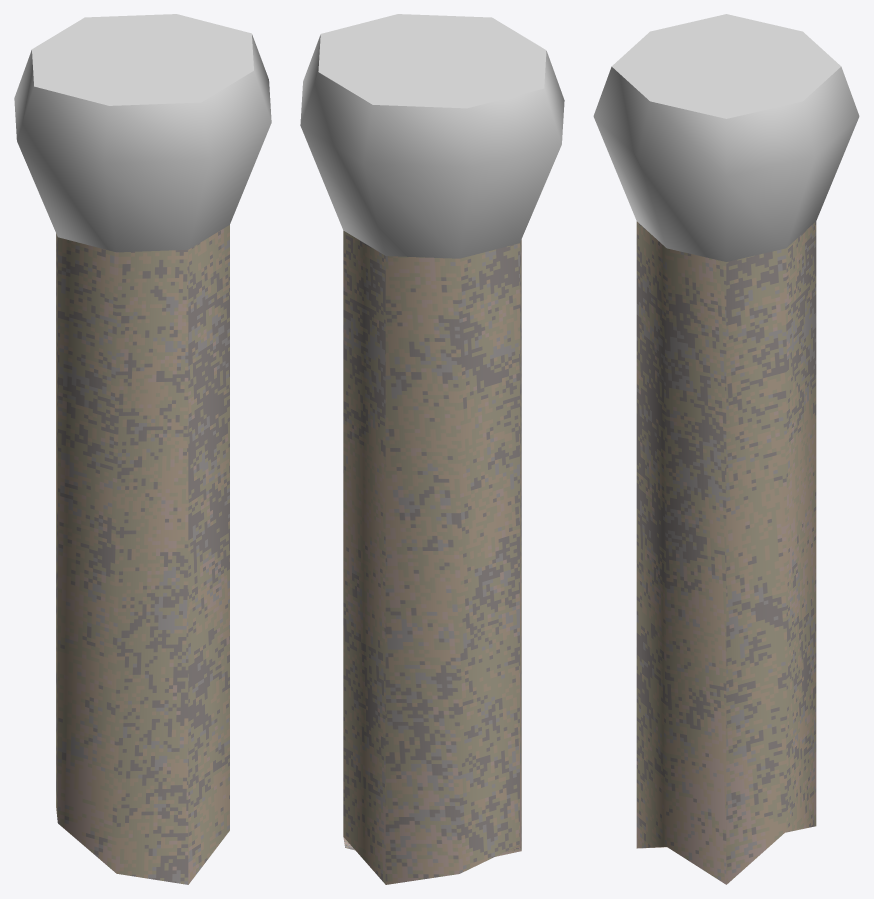
Rendered from broken pillar Top.fbx.
The picture shows the model from 3 angles, left to right: view 1: azimuth 30°, elevation 25°; view 2: azimuth 150°, elevation 25°; view 3: azimuth 270°, elevation 25°; orthographic projection. The views are drawn at different scales.
Parts seen in each view (by area): view 1: RoundPillar.001; view 2: RoundPillar.001; view 3: RoundPillar.001.
Boxes of the visible parts, x1=… form: RoundPillar.001: x1=14, y1=14, x2=271, y2=884; RoundPillar.001: x1=300, y1=14, x2=564, y2=884; RoundPillar.001: x1=593, y1=14, x2=859, y2=884.
Bounding box in the file's own units: 81.54 × 245 × 75.44.
